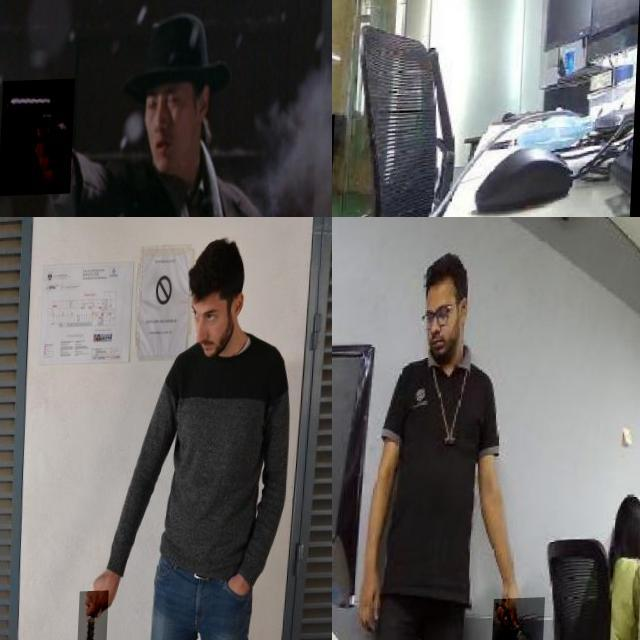-: (332, 117, 368, 189), (495, 599, 550, 640), (81, 592, 113, 640)
gun-knife-thesis - v11 Yolov5 augmented: (0, 81, 77, 198)
